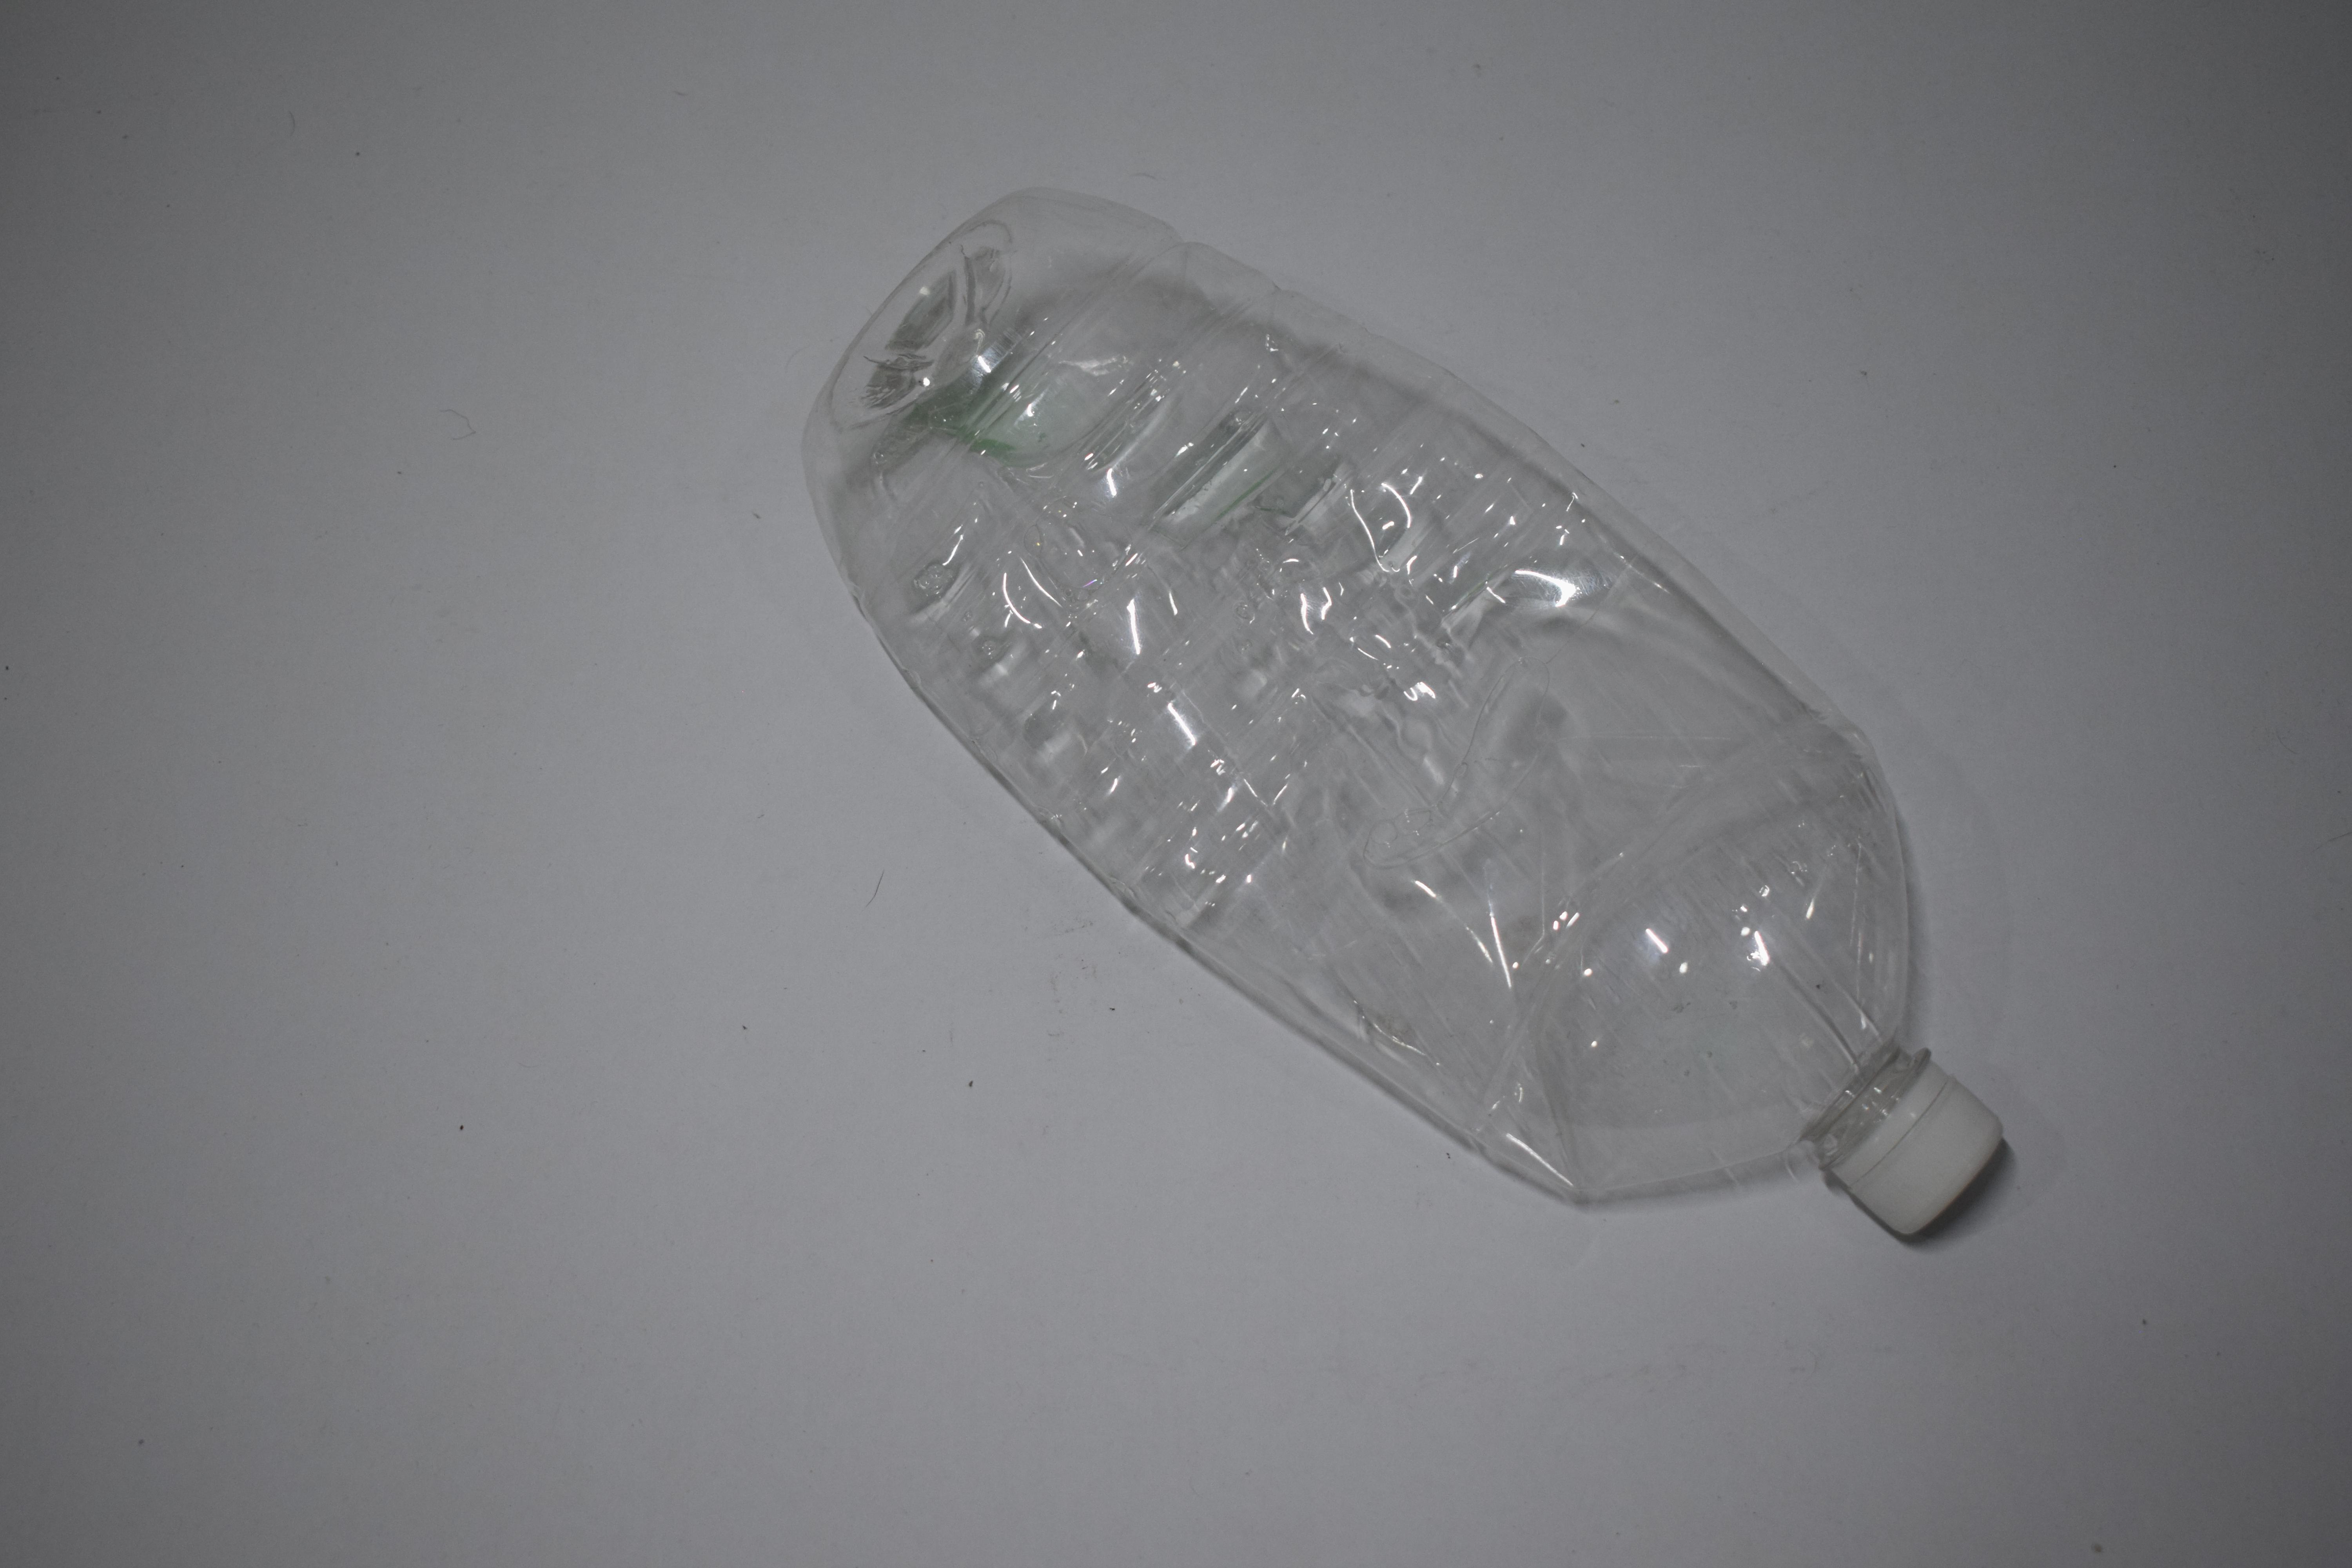bottle: (215, 95, 247, 1160)
